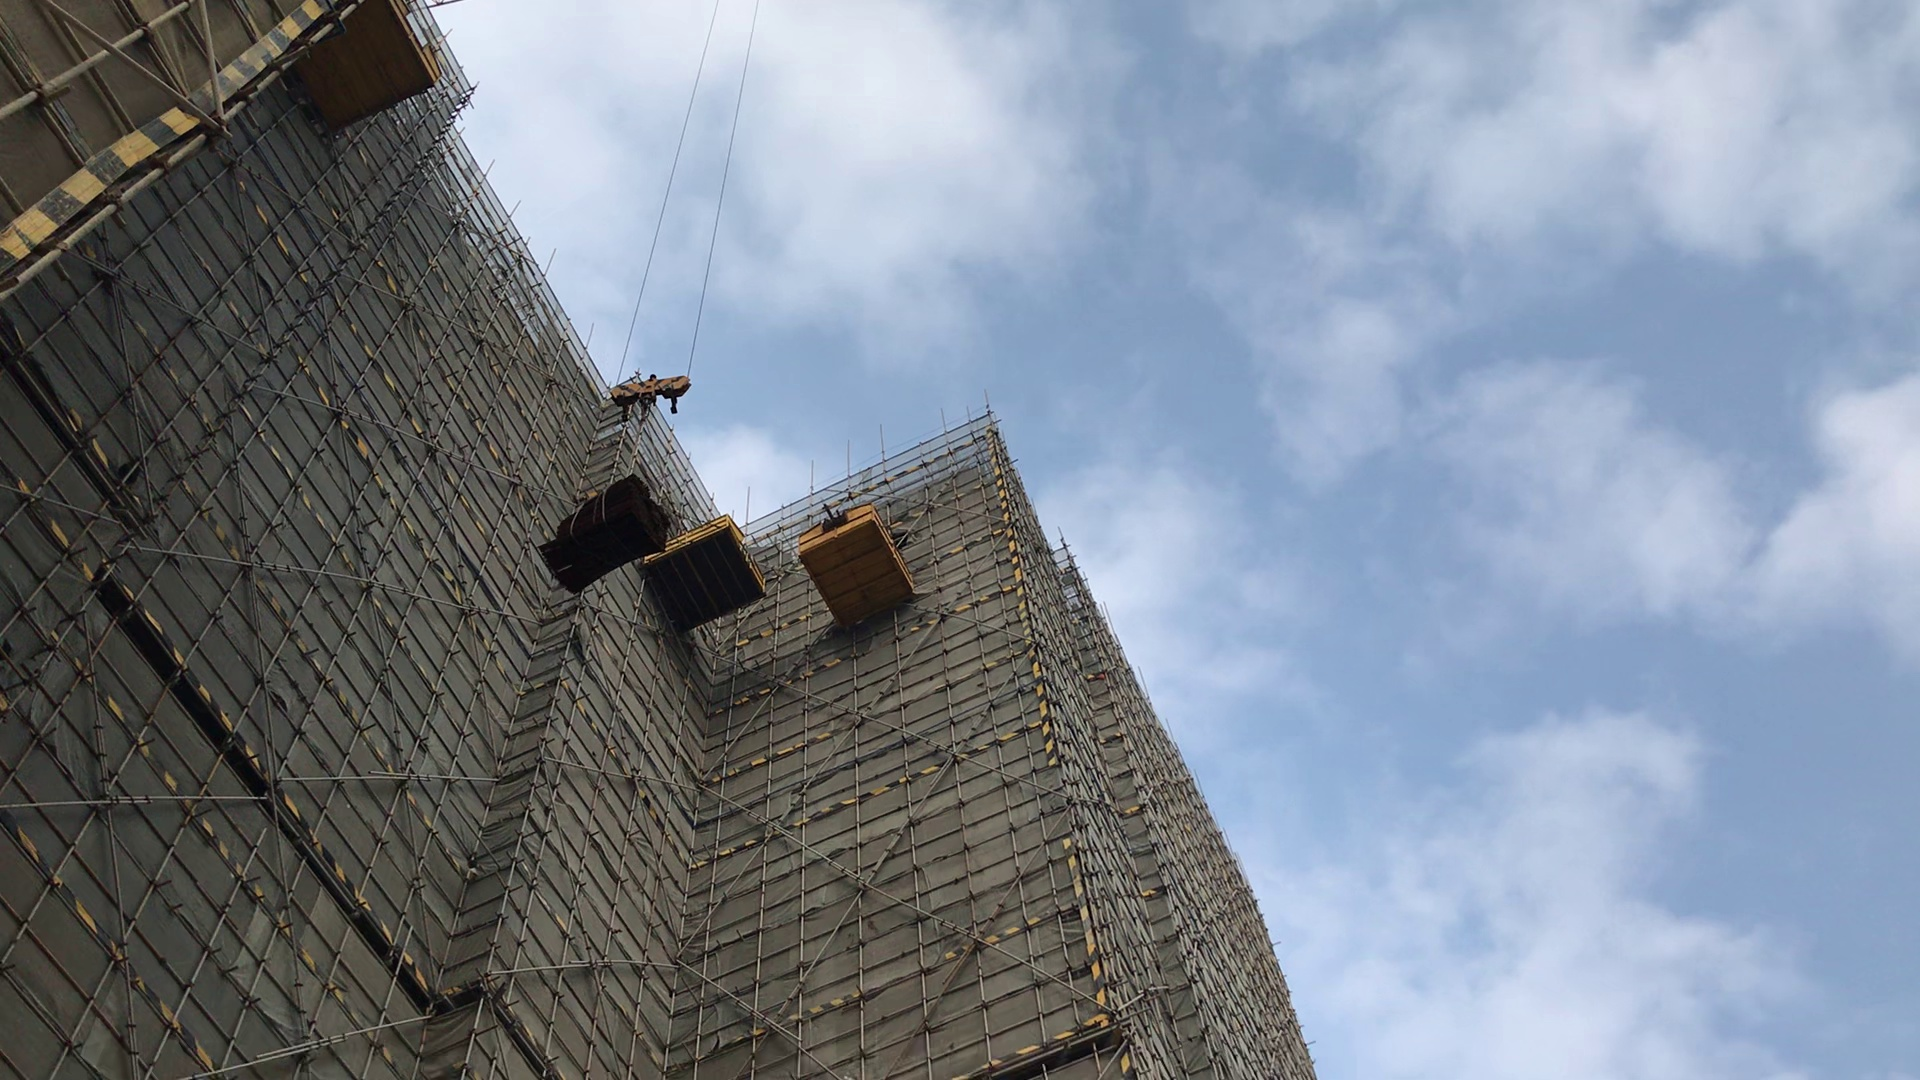hook: (604, 349, 712, 419)
